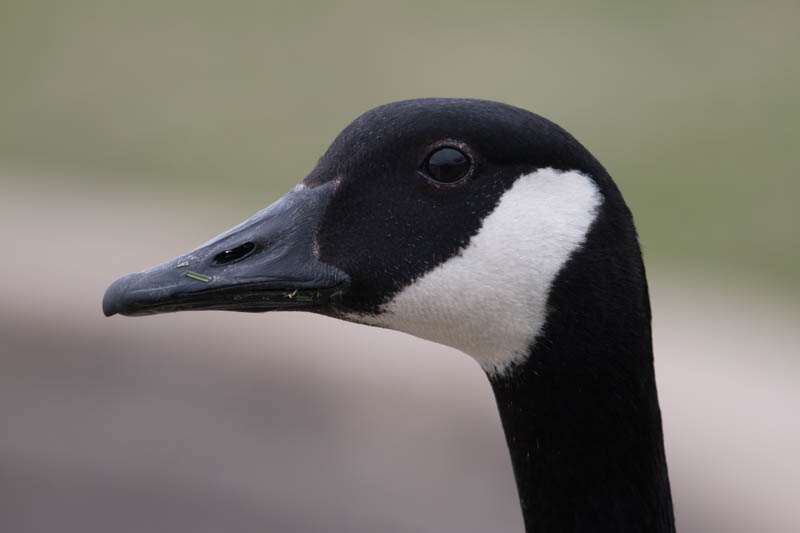goose-head: (101, 96, 652, 377)
